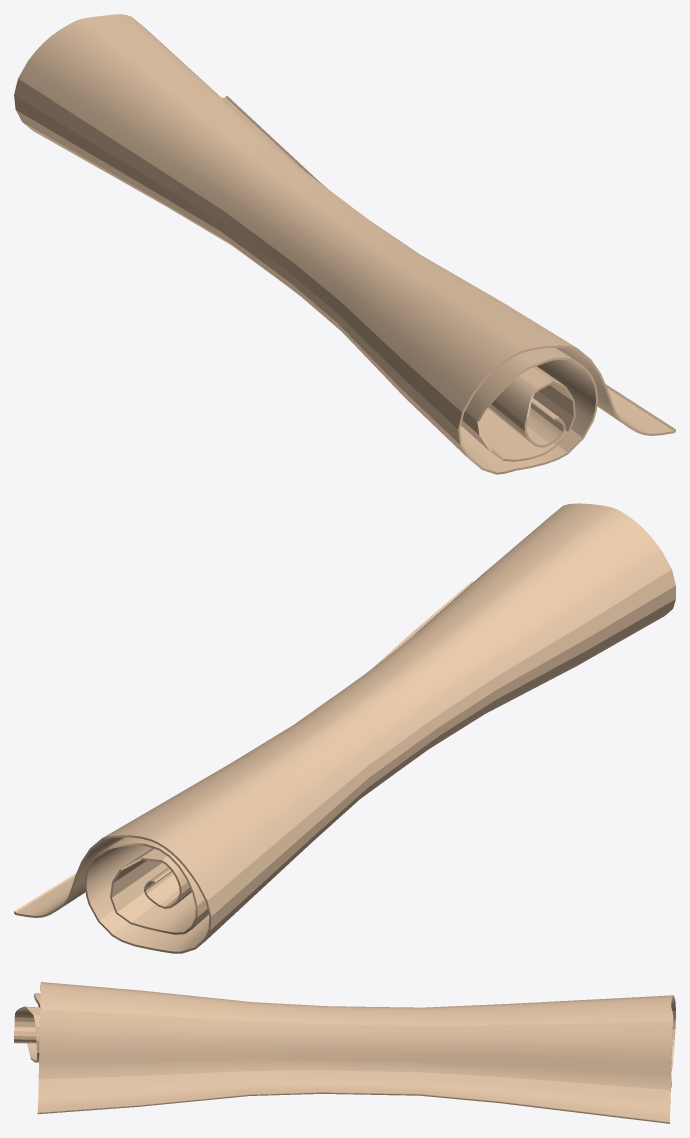
Rendered from Scroll3.fbx.
3 views of the same model, one above another, from view 1: azimuth 30°, elevation 25°; view 2: azimuth 150°, elevation 25°; view 3: azimuth 270°, elevation 25° (orthographic). The views are drawn at different scales.
Parts seen in each view (by area): view 1: IndividualScroll1; view 2: IndividualScroll1; view 3: IndividualScroll1.
Part boxes in pixels (x1,y1,x2,y2): IndividualScroll1: (14,14,675,474); IndividualScroll1: (14,503,675,953); IndividualScroll1: (14,982,675,1123).
Size of the model in its own units: 14.65 by 7.77 by 53.72.
